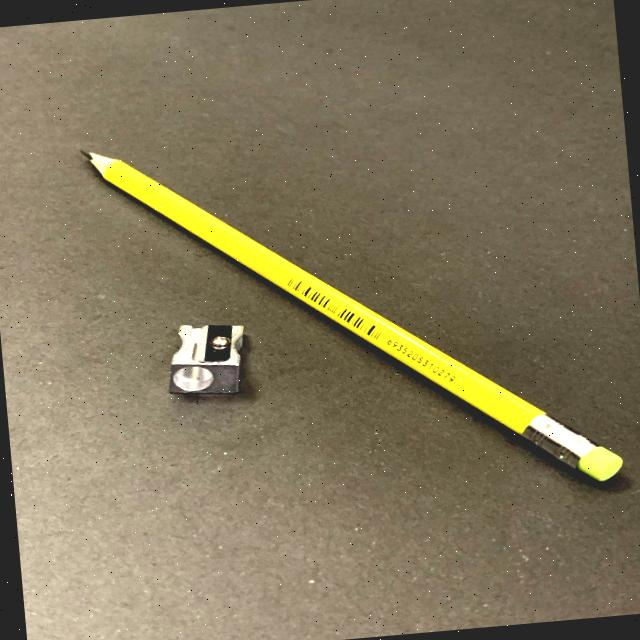Pencil: (46, 118, 640, 513)
Sharpner: (142, 297, 272, 416)
